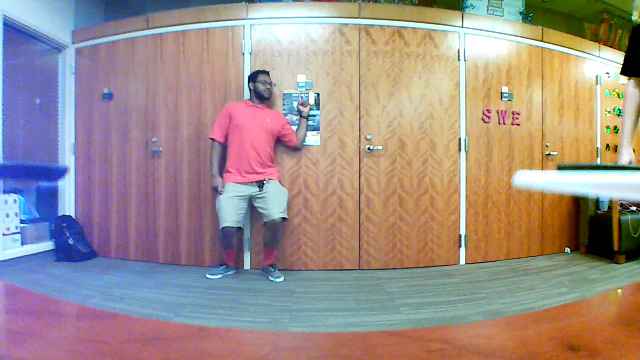up: (293, 90, 313, 119)
